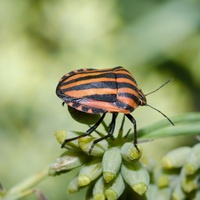insect: (56, 66, 166, 153)
